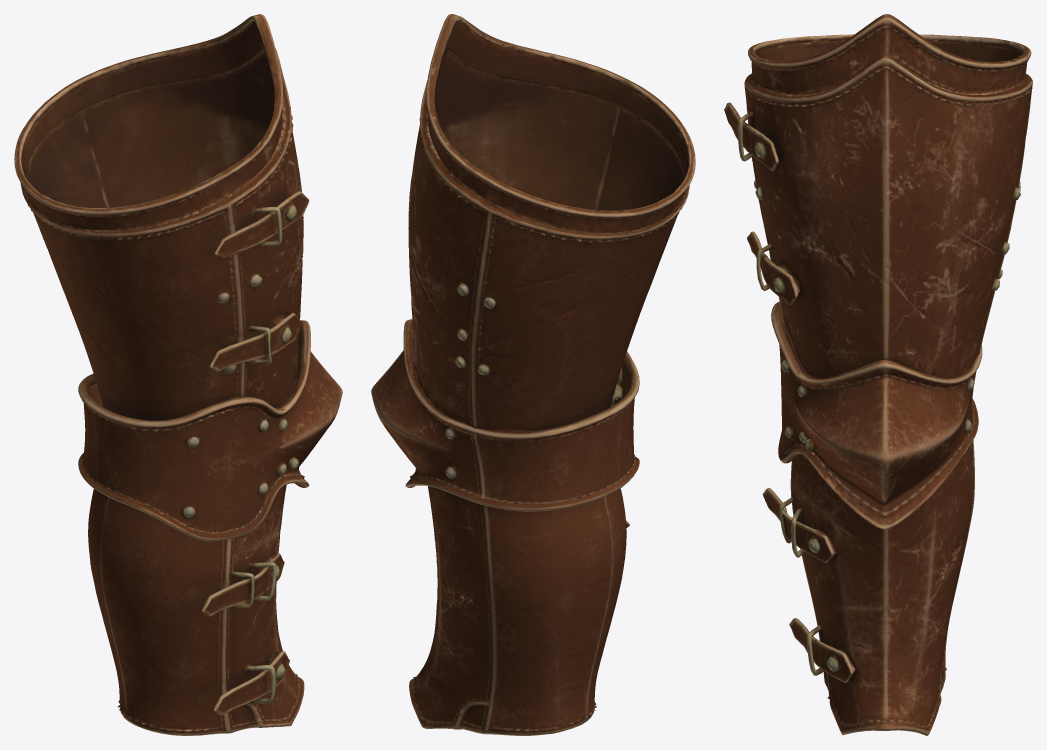
Rendered from armor_legs01.glb.
3 renders of one model, left to right at view 1: azimuth 30°, elevation 25°; view 2: azimuth 150°, elevation 25°; view 3: azimuth 270°, elevation 25°, orthographic. The views are drawn at different scales.
Parts seen in each view (by area): view 1: tripo_node_3a1c446d-0d72-4fdf-8dca-76dcaac023e6; view 2: tripo_node_3a1c446d-0d72-4fdf-8dca-76dcaac023e6; view 3: tripo_node_3a1c446d-0d72-4fdf-8dca-76dcaac023e6.
Part boxes in pixels (x1,y1,x2,y2): tripo_node_3a1c446d-0d72-4fdf-8dca-76dcaac023e6: (14,14,342,735); tripo_node_3a1c446d-0d72-4fdf-8dca-76dcaac023e6: (371,14,695,735); tripo_node_3a1c446d-0d72-4fdf-8dca-76dcaac023e6: (724,14,1032,735).
Size of the model in its own units: 0.4569 by 0.9999 by 0.392.
1 material, 1 textured.
